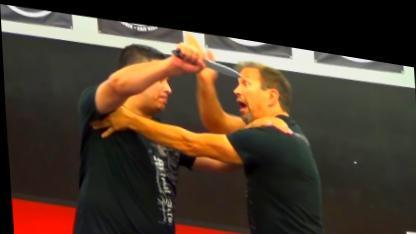knife: (168, 32, 244, 73)
